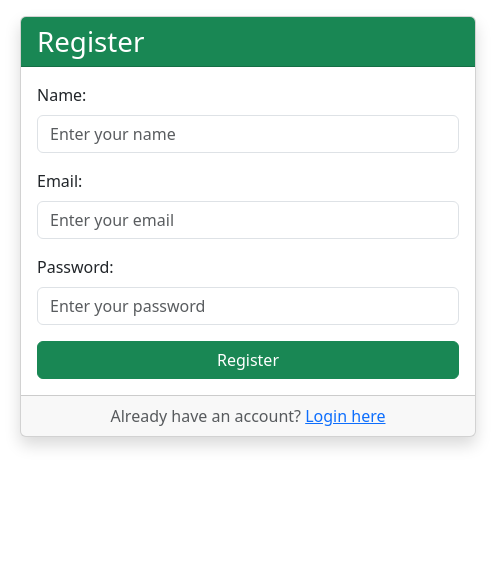
Scenario: <Register /> › shows an error alert when register rejects
This screenshot has width=497, height=564.
Type "Bob" into the field labelled "Name:" at (248, 134), box top-left (37, 115), bottom-right (459, 153)
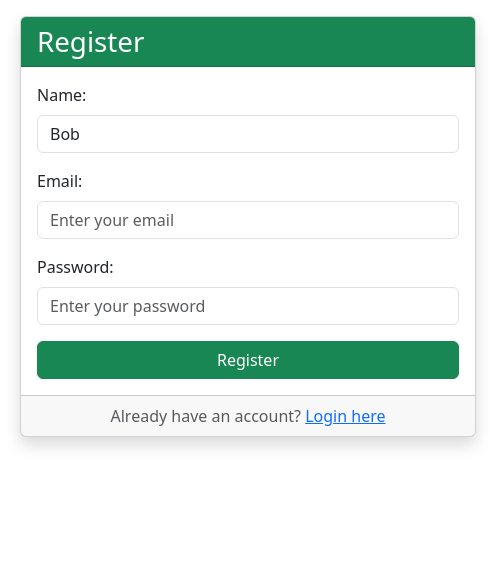
Type "bob@example.com" into the field labelled "Email:" at (248, 220), box top-left (37, 201), bottom-right (459, 239)
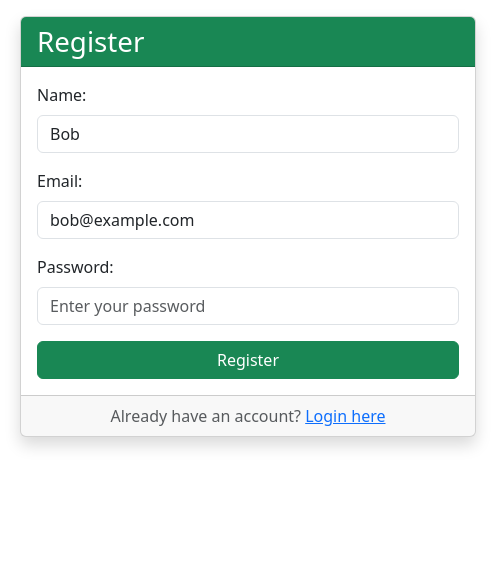
Type "hunter2" into the password field labelled "Password:" at (248, 306), box top-left (37, 287), bottom-right (459, 325)
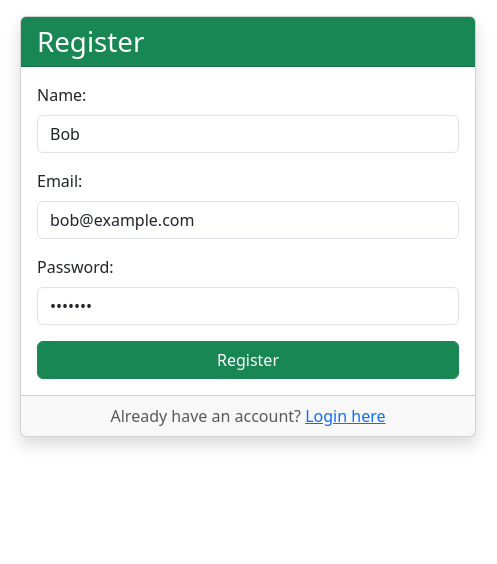
Click the button "Register" at (248, 360), box top-left (37, 341), bottom-right (459, 379)
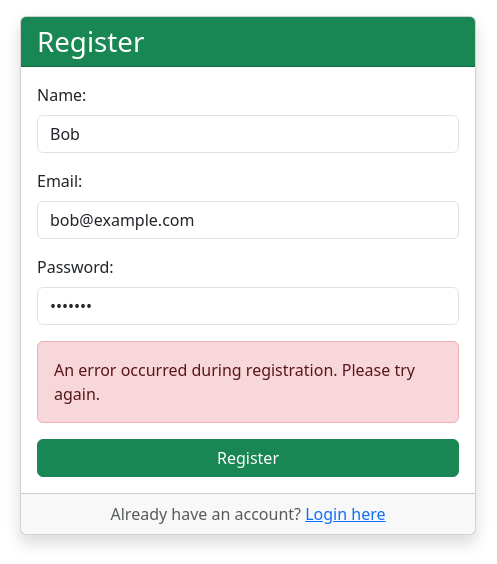
Expected: the message reads "An error occurred during registration. Please try again.", top-left (54, 359), bottom-right (415, 405)
